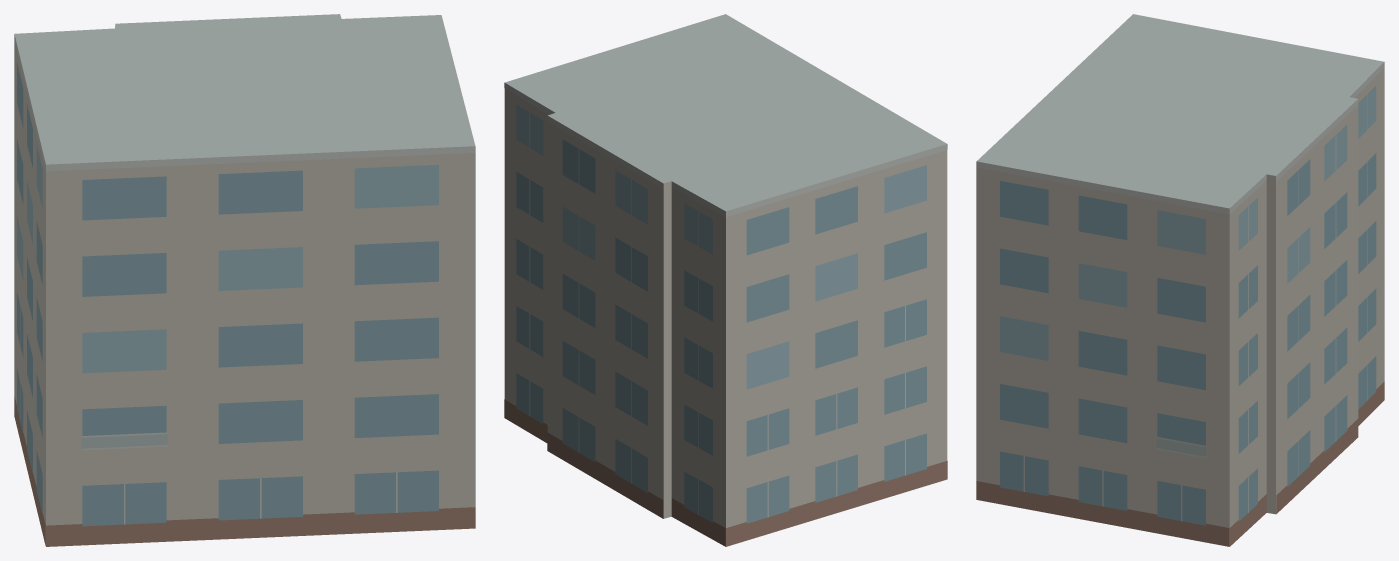
Rendered from survey-upis-32653511.glb.
The picture shows the model from 3 angles, left to right: view 1: azimuth 30°, elevation 25°; view 2: azimuth 150°, elevation 25°; view 3: azimuth 270°, elevation 25°; orthographic projection. The views are drawn at different scales.
Parts seen in each view (by area): view 1: survey-upis-32653511.tmp; view 2: survey-upis-32653511.tmp; view 3: survey-upis-32653511.tmp.
Boxes of the visible parts, x1,y1,x2,y2 form: survey-upis-32653511.tmp: (14, 14, 475, 546); survey-upis-32653511.tmp: (504, 14, 947, 546); survey-upis-32653511.tmp: (976, 14, 1384, 546).
Size of the model in its own units: 17.14 by 13.9 by 15.2.
